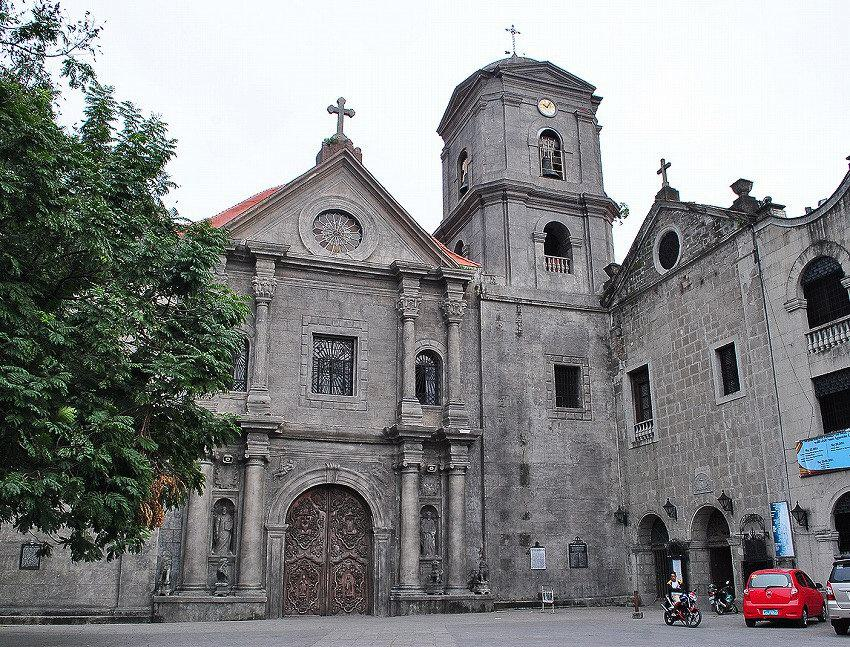Crack: (609, 355, 627, 401)
Environmental Damage: (604, 194, 634, 233)
San Agustin Church: (182, 17, 642, 599)
